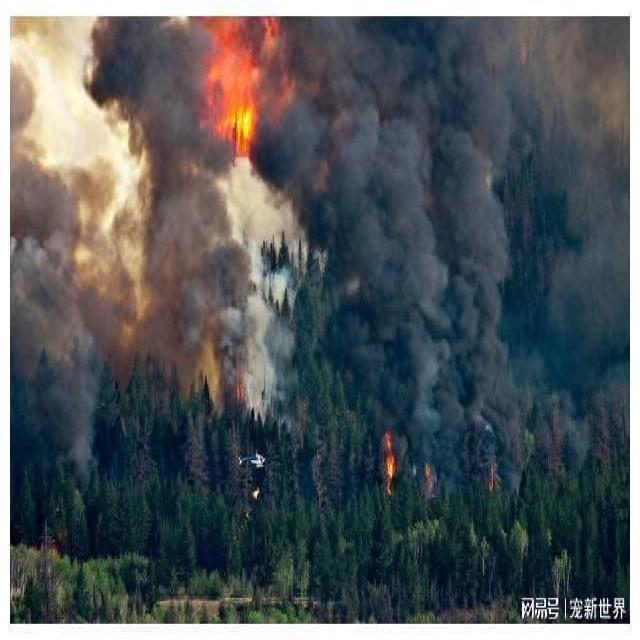Fire: (232, 104, 252, 140), (388, 435, 396, 486)
Smoke: (430, 132, 528, 466), (380, 125, 450, 440), (328, 103, 406, 304), (322, 22, 524, 98), (98, 23, 200, 146), (18, 174, 74, 360), (548, 240, 624, 373), (252, 94, 322, 198)
